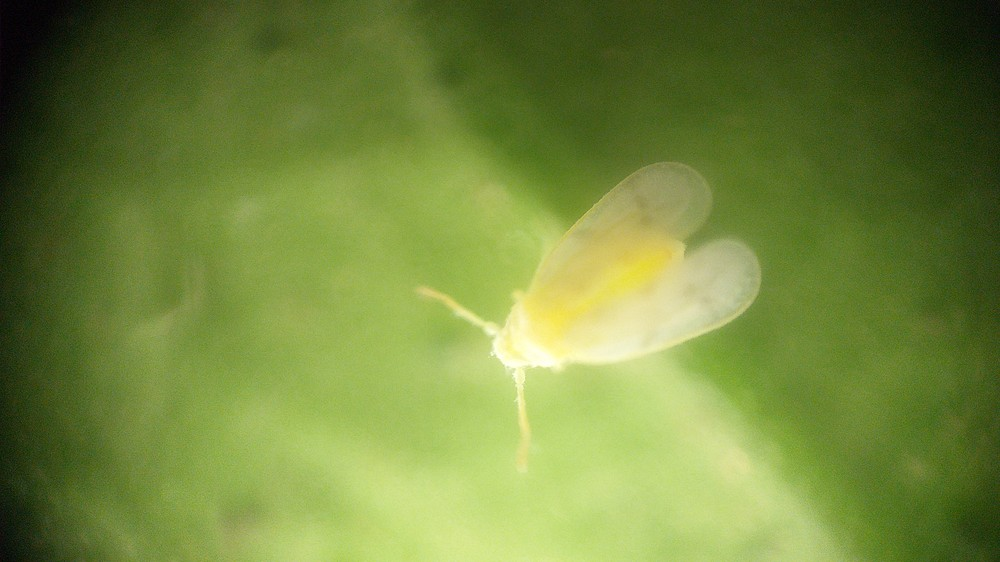Mosca Blanca: (406, 162, 784, 490)
